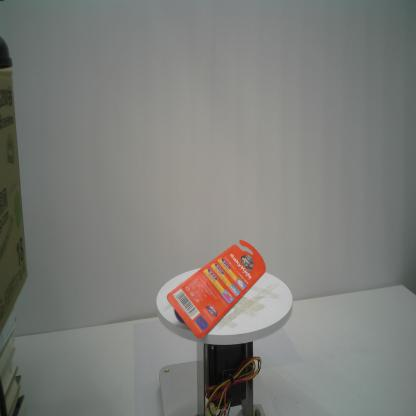Personal Hygiene: (166, 240, 267, 340)
